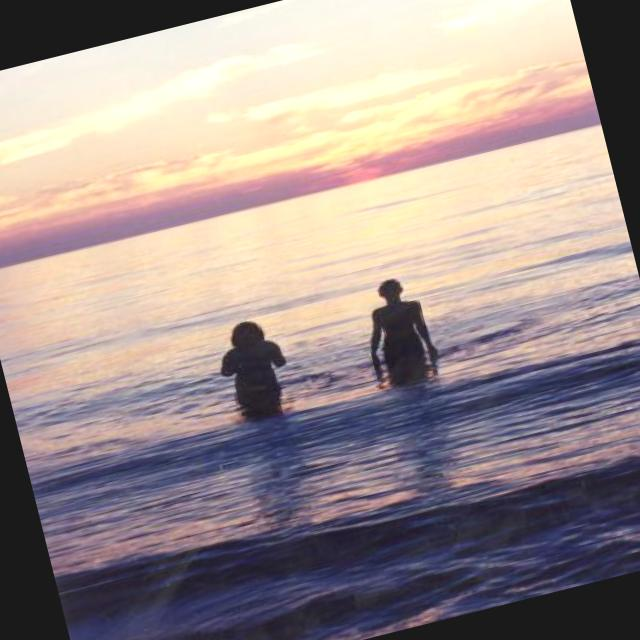Person: (352, 272, 444, 393), (210, 313, 294, 415)
